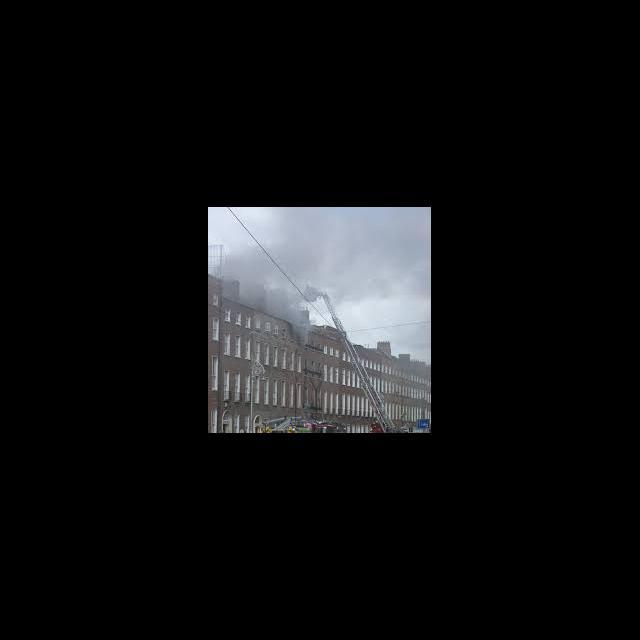Smoke: (217, 230, 314, 342)
